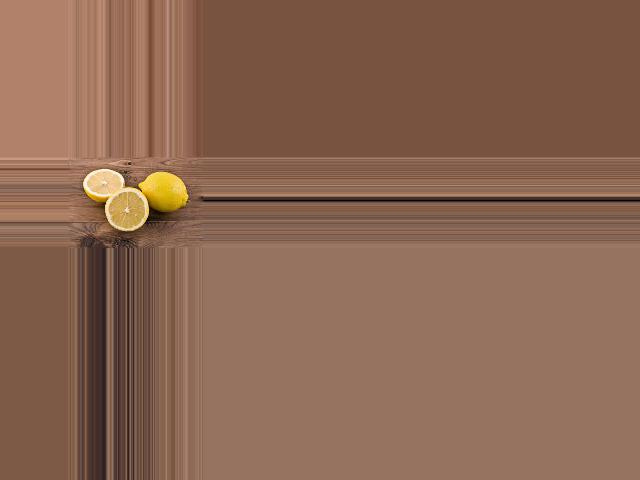lemon: (138, 166, 185, 213)
